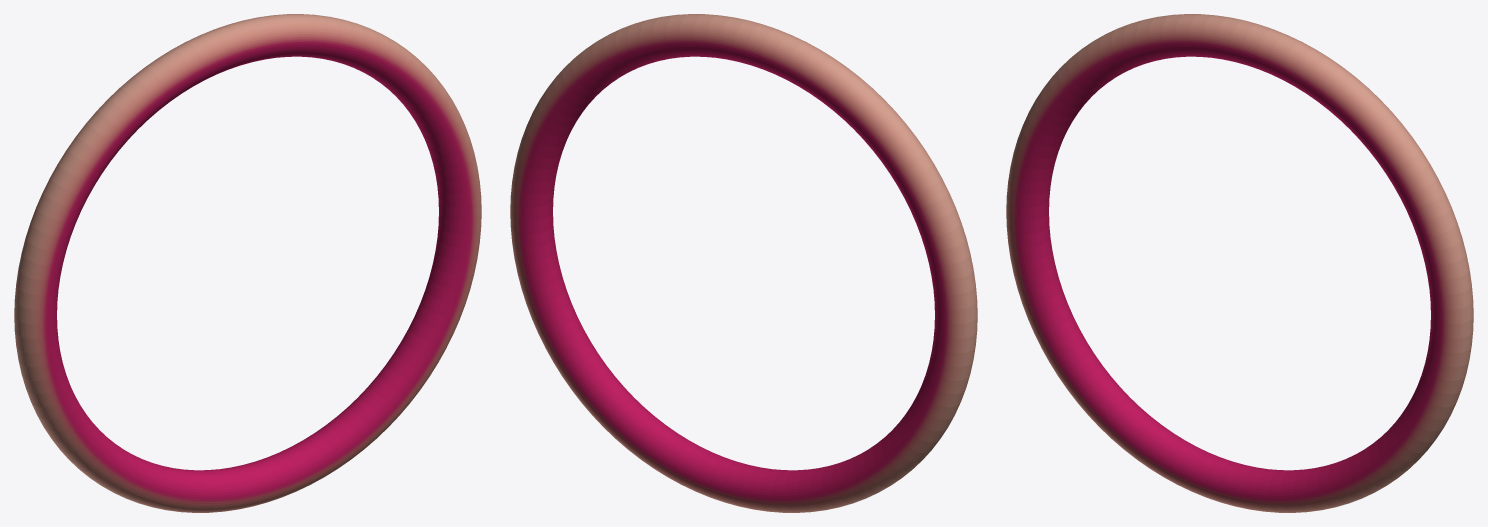
3 renders of one model, left to right at view 1: azimuth 30°, elevation 25°; view 2: azimuth 150°, elevation 25°; view 3: azimuth 330°, elevation 25°, orthographic.
Visible parts, largest first — view 1: world; view 2: world; view 3: world.
Part boxes in pixels (left/top/right/bottom): world: left=14, top=14, right=481, bottom=512; world: left=510, top=14, right=977, bottom=512; world: left=1006, top=14, right=1473, bottom=512.
Size of the model in its own units: 28.27 by 28.27 by 2.26.
